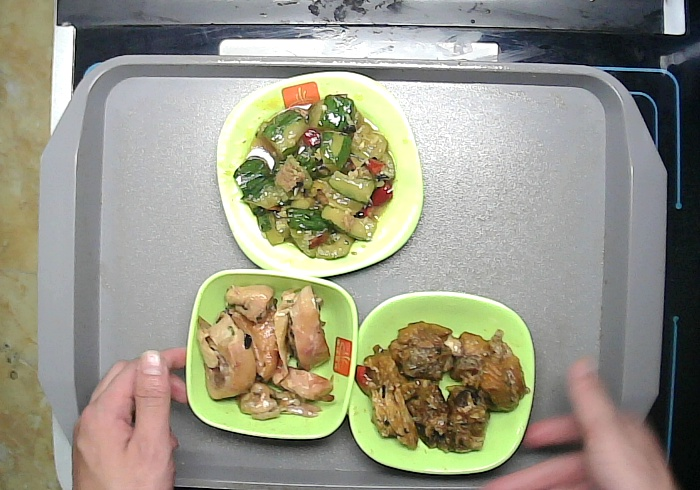SHKJ-Lv_Se_Cai_Die: (348, 292, 535, 475)
SHKJ-Lv_Se_Si_Fang_Cai_Die: (216, 71, 424, 278)
SHKJ-Lv_Se_Xiao_Fang_Die: (186, 268, 358, 440)
